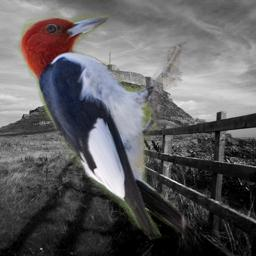Woodpecker: (15, 8, 194, 242)
